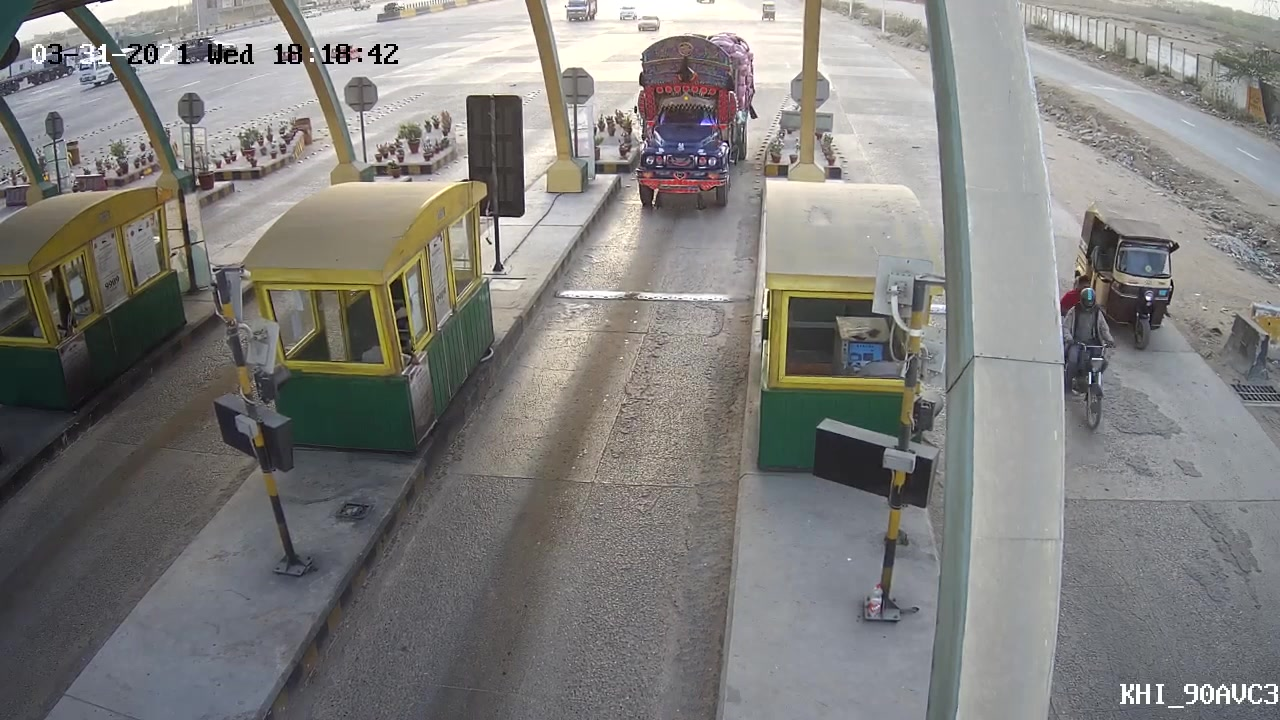F5: (609, 21, 761, 222)
